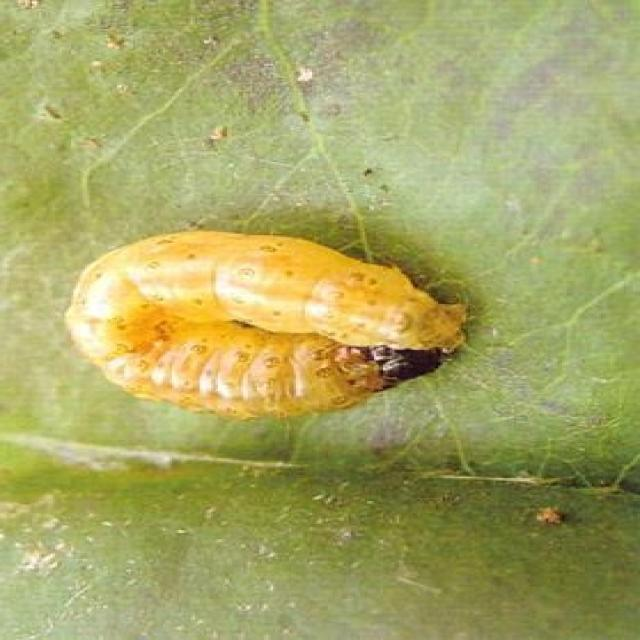peach borer: (62, 227, 463, 435)
